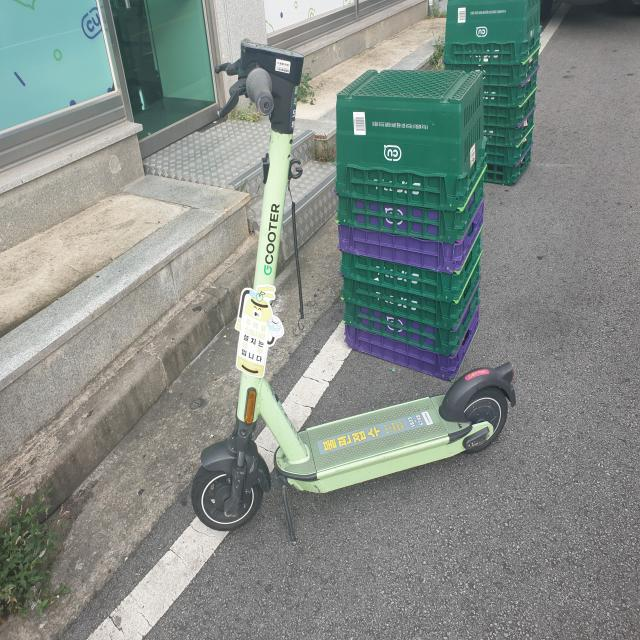bike: (189, 36, 518, 542)
